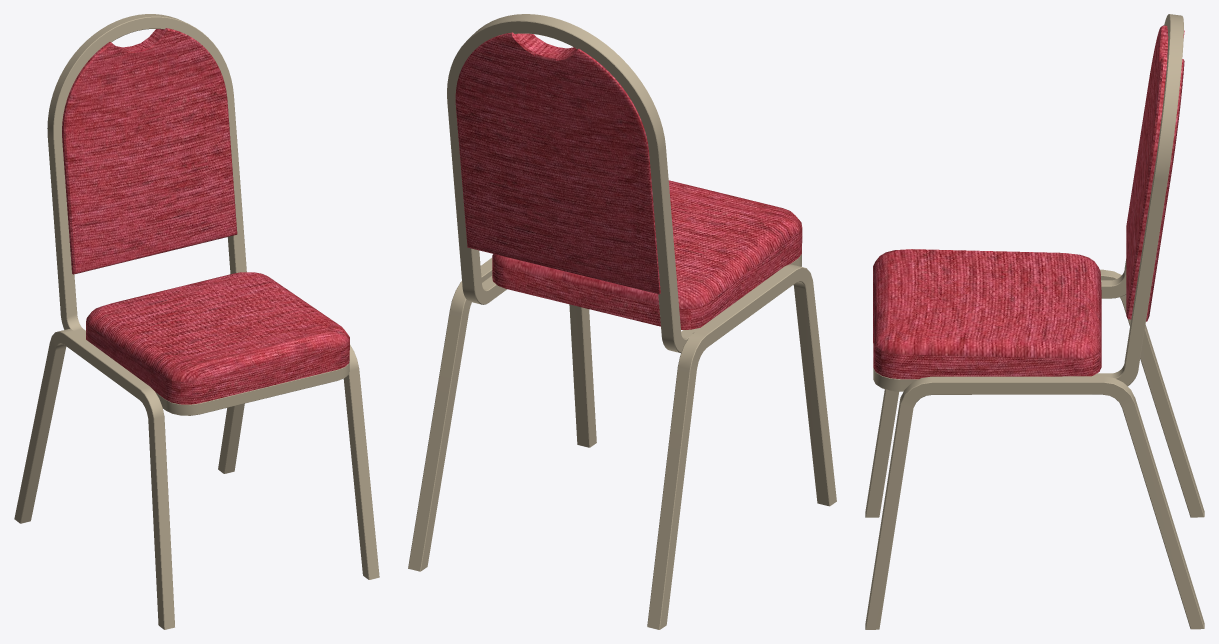
Rendered from sh_blend_swap_cc_0_chair2.glb.
3 views of the same model, side by side, from view 1: azimuth 30°, elevation 25°; view 2: azimuth 150°, elevation 25°; view 3: azimuth 270°, elevation 25° (orthographic). The views are drawn at different scales.
Bounding box in the file's own units: 0.403 × 0.868 × 0.489.
2 materials, 1 textured.
